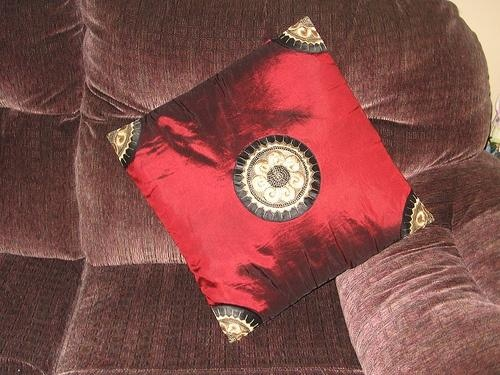sofa: (3, 4, 499, 373)
